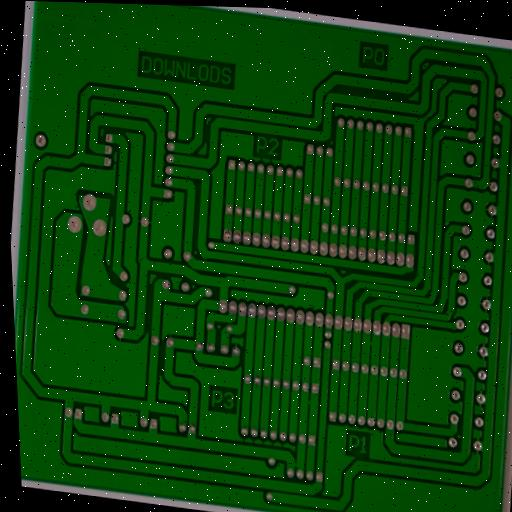short_circuit: (362, 334, 381, 353), (287, 455, 303, 475), (301, 394, 317, 412)
